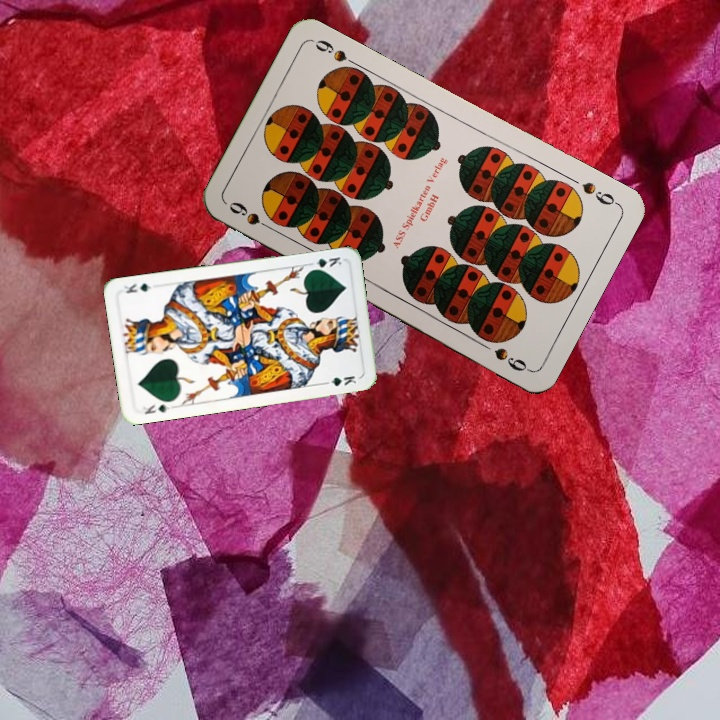GK: (305, 253, 344, 273), (139, 400, 172, 417)
S9: (225, 197, 278, 235), (577, 178, 621, 208)
